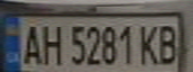1: (115, 21, 136, 65)
2: (81, 21, 103, 66)
5: (66, 21, 87, 66)
8: (100, 23, 121, 66)
A: (18, 21, 45, 66)
B: (154, 21, 184, 66)
H: (36, 20, 66, 66)
K: (136, 21, 163, 66)
